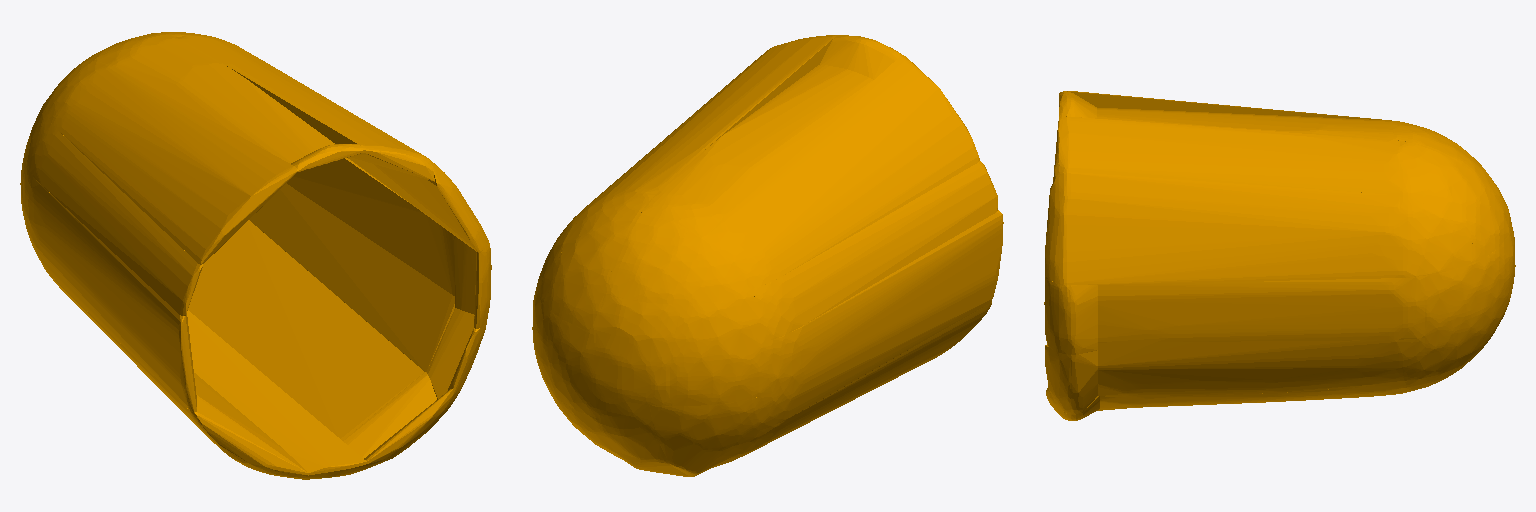
The robot description file, URDF, robot "design":
<?xml version="1.0" encoding="utf-8"?>
<robot name="design">
  <material name="obj_color">
    <color rgba="1.0 0.423529411765 0.0392156862745 1.0" />
  </material>
  <link name="base_link">
    <visual>
      <origin xyz="0 0 0" rpy="0 0 0" />
      <geometry>
        <mesh filename="right_scan.obj" scale="1 1 1" />
      </geometry>
    </visual>
    <collision name="right_scan_coacd_fine_000_collision">
      <origin xyz="0 0 0" rpy="0 0 0" />
      <geometry>
        <mesh filename="right_scan_coacd_fine_000.obj" scale="1 1 1" />
      </geometry>
    </collision>
    <collision name="right_scan_coacd_fine_001_collision">
      <origin xyz="0 0 0" rpy="0 0 0" />
      <geometry>
        <mesh filename="right_scan_coacd_fine_001.obj" scale="1 1 1" />
      </geometry>
    </collision>
    <collision name="right_scan_coacd_fine_002_collision">
      <origin xyz="0 0 0" rpy="0 0 0" />
      <geometry>
        <mesh filename="right_scan_coacd_fine_002.obj" scale="1 1 1" />
      </geometry>
    </collision>
    <collision name="right_scan_coacd_fine_003_collision">
      <origin xyz="0 0 0" rpy="0 0 0" />
      <geometry>
        <mesh filename="right_scan_coacd_fine_003.obj" scale="1 1 1" />
      </geometry>
    </collision>
    <collision name="right_scan_coacd_fine_004_collision">
      <origin xyz="0 0 0" rpy="0 0 0" />
      <geometry>
        <mesh filename="right_scan_coacd_fine_004.obj" scale="1 1 1" />
      </geometry>
    </collision>
    <collision name="right_scan_coacd_fine_005_collision">
      <origin xyz="0 0 0" rpy="0 0 0" />
      <geometry>
        <mesh filename="right_scan_coacd_fine_005.obj" scale="1 1 1" />
      </geometry>
    </collision>
    <collision name="right_scan_coacd_fine_006_collision">
      <origin xyz="0 0 0" rpy="0 0 0" />
      <geometry>
        <mesh filename="right_scan_coacd_fine_006.obj" scale="1 1 1" />
      </geometry>
    </collision>
    <collision name="right_scan_coacd_fine_007_collision">
      <origin xyz="0 0 0" rpy="0 0 0" />
      <geometry>
        <mesh filename="right_scan_coacd_fine_007.obj" scale="1 1 1" />
      </geometry>
    </collision>
    <collision name="right_scan_coacd_fine_008_collision">
      <origin xyz="0 0 0" rpy="0 0 0" />
      <geometry>
        <mesh filename="right_scan_coacd_fine_008.obj" scale="1 1 1" />
      </geometry>
    </collision>
    <collision name="right_scan_coacd_fine_009_collision">
      <origin xyz="0 0 0" rpy="0 0 0" />
      <geometry>
        <mesh filename="right_scan_coacd_fine_009.obj" scale="1 1 1" />
      </geometry>
    </collision>
    <collision name="right_scan_coacd_fine_010_collision">
      <origin xyz="0 0 0" rpy="0 0 0" />
      <geometry>
        <mesh filename="right_scan_coacd_fine_010.obj" scale="1 1 1" />
      </geometry>
    </collision>
    <collision name="right_scan_coacd_fine_011_collision">
      <origin xyz="0 0 0" rpy="0 0 0" />
      <geometry>
        <mesh filename="right_scan_coacd_fine_011.obj" scale="1 1 1" />
      </geometry>
    </collision>
    <collision name="right_scan_coacd_fine_012_collision">
      <origin xyz="0 0 0" rpy="0 0 0" />
      <geometry>
        <mesh filename="right_scan_coacd_fine_012.obj" scale="1 1 1" />
      </geometry>
    </collision>
    <collision name="right_scan_coacd_fine_013_collision">
      <origin xyz="0 0 0" rpy="0 0 0" />
      <geometry>
        <mesh filename="right_scan_coacd_fine_013.obj" scale="1 1 1" />
      </geometry>
    </collision>
    <collision name="right_scan_coacd_fine_014_collision">
      <origin xyz="0 0 0" rpy="0 0 0" />
      <geometry>
        <mesh filename="right_scan_coacd_fine_014.obj" scale="1 1 1" />
      </geometry>
    </collision>
    <collision name="right_scan_coacd_fine_015_collision">
      <origin xyz="0 0 0" rpy="0 0 0" />
      <geometry>
        <mesh filename="right_scan_coacd_fine_015.obj" scale="1 1 1" />
      </geometry>
    </collision>
    <collision name="right_scan_coacd_fine_016_collision">
      <origin xyz="0 0 0" rpy="0 0 0" />
      <geometry>
        <mesh filename="right_scan_coacd_fine_016.obj" scale="1 1 1" />
      </geometry>
    </collision>
    <collision name="right_scan_coacd_fine_018_collision">
      <origin xyz="0 0 0" rpy="0 0 0" />
      <geometry>
        <mesh filename="right_scan_coacd_fine_018.obj" scale="1 1 1" />
      </geometry>
    </collision>
    <collision name="right_scan_coacd_fine_019_collision">
      <origin xyz="0 0 0" rpy="0 0 0" />
      <geometry>
        <mesh filename="right_scan_coacd_fine_019.obj" scale="1 1 1" />
      </geometry>
    </collision>
    <collision name="right_scan_coacd_fine_020_collision">
      <origin xyz="0 0 0" rpy="0 0 0" />
      <geometry>
        <mesh filename="right_scan_coacd_fine_020.obj" scale="1 1 1" />
      </geometry>
    </collision>
    <collision name="right_scan_coacd_fine_021_collision">
      <origin xyz="0 0 0" rpy="0 0 0" />
      <geometry>
        <mesh filename="right_scan_coacd_fine_021.obj" scale="1 1 1" />
      </geometry>
    </collision>
    <collision name="right_scan_coacd_fine_022_collision">
      <origin xyz="0 0 0" rpy="0 0 0" />
      <geometry>
        <mesh filename="right_scan_coacd_fine_022.obj" scale="1 1 1" />
      </geometry>
    </collision>
    <collision name="right_scan_coacd_fine_023_collision">
      <origin xyz="0 0 0" rpy="0 0 0" />
      <geometry>
        <mesh filename="right_scan_coacd_fine_023.obj" scale="1 1 1" />
      </geometry>
    </collision>
    <collision name="right_scan_coacd_fine_024_collision">
      <origin xyz="0 0 0" rpy="0 0 0" />
      <geometry>
        <mesh filename="right_scan_coacd_fine_024.obj" scale="1 1 1" />
      </geometry>
    </collision>
    <collision name="right_scan_coacd_fine_025_collision">
      <origin xyz="0 0 0" rpy="0 0 0" />
      <geometry>
        <mesh filename="right_scan_coacd_fine_025.obj" scale="1 1 1" />
      </geometry>
    </collision>
    <collision name="right_scan_coacd_fine_026_collision">
      <origin xyz="0 0 0" rpy="0 0 0" />
      <geometry>
        <mesh filename="right_scan_coacd_fine_026.obj" scale="1 1 1" />
      </geometry>
    </collision>
    <collision name="right_scan_coacd_fine_027_collision">
      <origin xyz="0 0 0" rpy="0 0 0" />
      <geometry>
        <mesh filename="right_scan_coacd_fine_027.obj" scale="1 1 1" />
      </geometry>
    </collision>
    <collision name="right_scan_coacd_fine_028_collision">
      <origin xyz="0 0 0" rpy="0 0 0" />
      <geometry>
        <mesh filename="right_scan_coacd_fine_028.obj" scale="1 1 1" />
      </geometry>
    </collision>
    <collision name="right_scan_coacd_fine_029_collision">
      <origin xyz="0 0 0" rpy="0 0 0" />
      <geometry>
        <mesh filename="right_scan_coacd_fine_029.obj" scale="1 1 1" />
      </geometry>
    </collision>
    <collision name="right_scan_coacd_fine_030_collision">
      <origin xyz="0 0 0" rpy="0 0 0" />
      <geometry>
        <mesh filename="right_scan_coacd_fine_030.obj" scale="1 1 1" />
      </geometry>
    </collision>
    <collision name="right_scan_coacd_fine_031_collision">
      <origin xyz="0 0 0" rpy="0 0 0" />
      <geometry>
        <mesh filename="right_scan_coacd_fine_031.obj" scale="1 1 1" />
      </geometry>
    </collision>
    <collision name="right_scan_coacd_fine_032_collision">
      <origin xyz="0 0 0" rpy="0 0 0" />
      <geometry>
        <mesh filename="right_scan_coacd_fine_032.obj" scale="1 1 1" />
      </geometry>
    </collision>
    <collision name="right_scan_coacd_fine_033_collision">
      <origin xyz="0 0 0" rpy="0 0 0" />
      <geometry>
        <mesh filename="right_scan_coacd_fine_033.obj" scale="1 1 1" />
      </geometry>
    </collision>
    <collision name="right_scan_coacd_fine_034_collision">
      <origin xyz="0 0 0" rpy="0 0 0" />
      <geometry>
        <mesh filename="right_scan_coacd_fine_034.obj" scale="1 1 1" />
      </geometry>
    </collision>
    <collision name="right_scan_coacd_fine_035_collision">
      <origin xyz="0 0 0" rpy="0 0 0" />
      <geometry>
        <mesh filename="right_scan_coacd_fine_035.obj" scale="1 1 1" />
      </geometry>
    </collision>
    <collision name="right_scan_coacd_fine_036_collision">
      <origin xyz="0 0 0" rpy="0 0 0" />
      <geometry>
        <mesh filename="right_scan_coacd_fine_036.obj" scale="1 1 1" />
      </geometry>
    </collision>
    <collision name="right_scan_coacd_fine_037_collision">
      <origin xyz="0 0 0" rpy="0 0 0" />
      <geometry>
        <mesh filename="right_scan_coacd_fine_037.obj" scale="1 1 1" />
      </geometry>
    </collision>
    <collision name="right_scan_coacd_fine_038_collision">
      <origin xyz="0 0 0" rpy="0 0 0" />
      <geometry>
        <mesh filename="right_scan_coacd_fine_038.obj" scale="1 1 1" />
      </geometry>
    </collision>
  </link>
</robot>

--- What the picture shows (computed from the rendered views, not written in the file) ---
3 views of the same robot in one strip: view 1: azimuth 30°, elevation 25°; view 2: azimuth 150°, elevation 25°; view 3: azimuth 270°, elevation 25° (orthographic).
Model design with 1 links and 0 joints (none), rooted at base_link, posed every joint at zero.
Visible links, largest first — view 1: base_link; view 2: base_link; view 3: base_link.
Link boxes in pixels (left/top/right/bottom): base_link: left=20, top=32, right=491, bottom=479; base_link: left=532, top=35, right=1003, bottom=476; base_link: left=1044, top=91, right=1515, bottom=420.
Size in the robot's own frame: 0.0327 by 0.048 by 0.0339 metres.
Meshes: 1 distinct files referenced, 1 mesh visuals loaded (1 OBJ).
